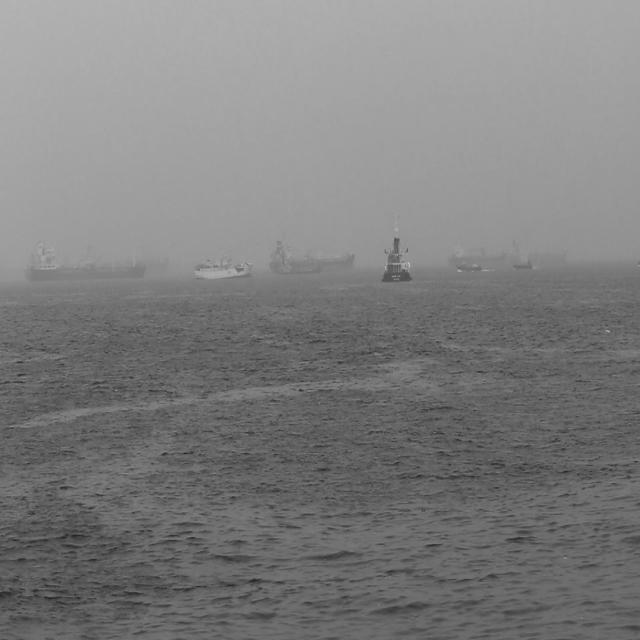ship: (28, 238, 148, 278), (268, 239, 356, 275), (381, 210, 411, 284), (193, 253, 254, 280), (448, 246, 516, 264), (456, 263, 484, 272), (512, 261, 534, 271)
